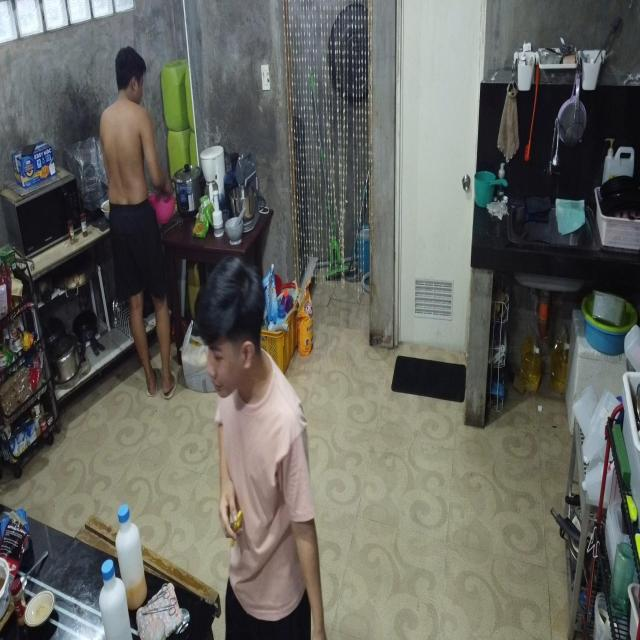scissor: (144, 594, 176, 617), (148, 582, 168, 607), (231, 508, 242, 548)
